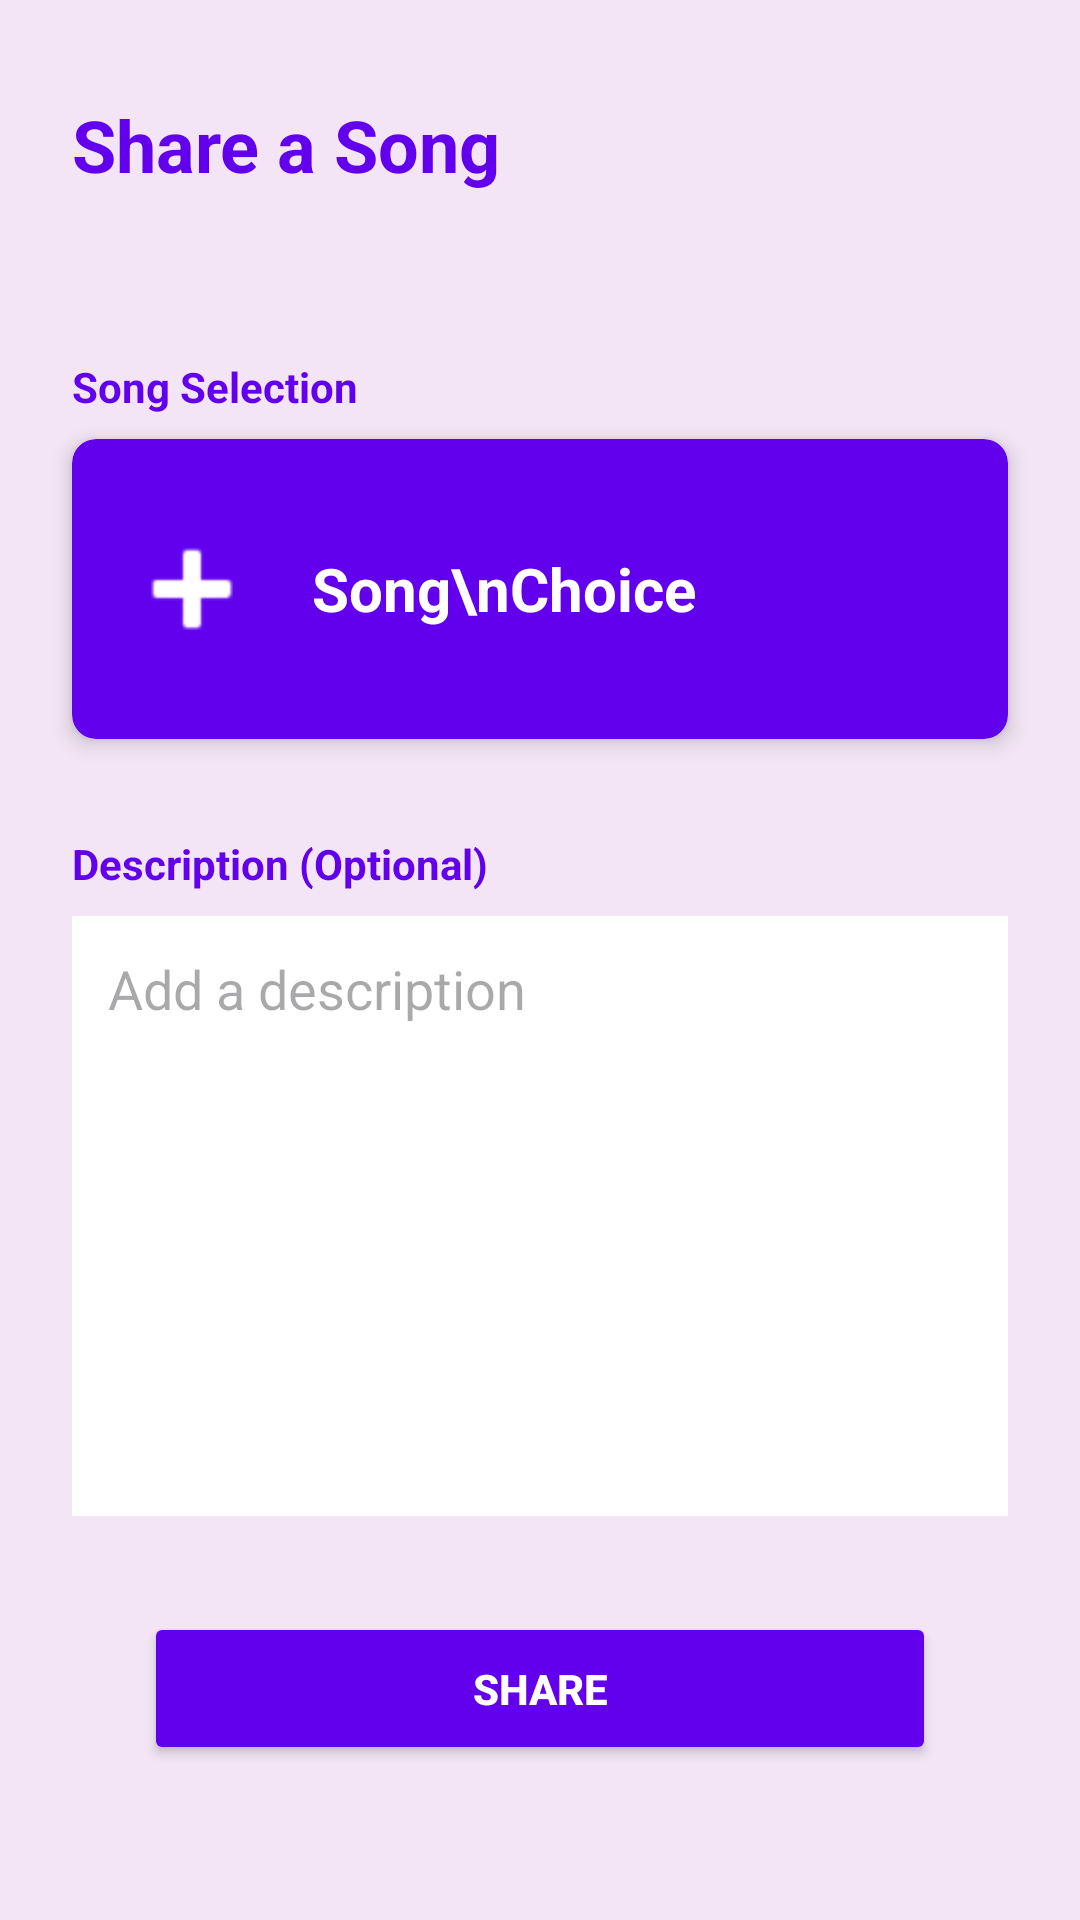

Screen size 1080px×1920px. Icon name, then its center in pixels as point (x, y):
add: point (192, 589)
